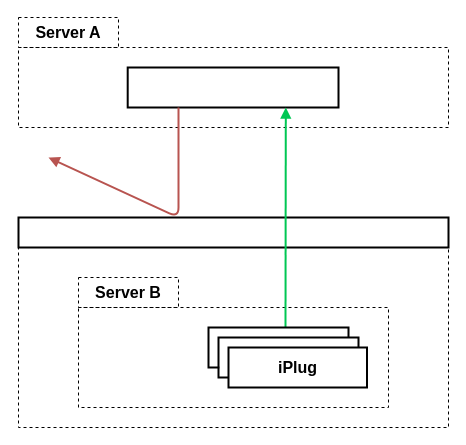
Image size: 466x445. Some labels were removed from this diagram. The shapes that lost their labels are listed below. From the top down, each one's centre as x and y in pixels, then its label:
At (232,87): "iBus".
At (233,232): "Firewall".
